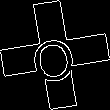O_N: (30, 26, 80, 84)
